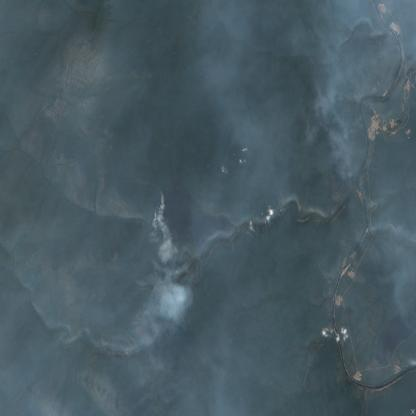fire: (148, 184, 172, 234)
